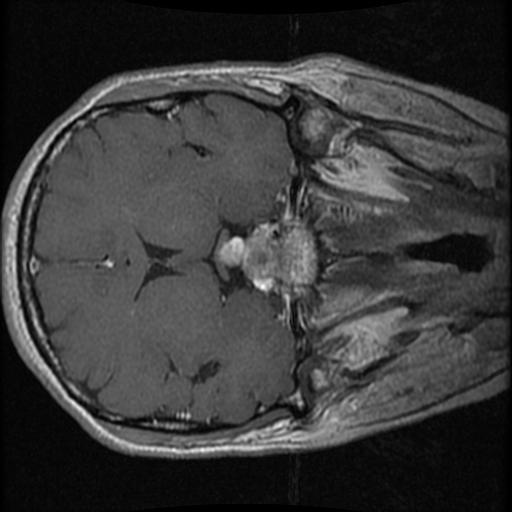pituitary tumour: (217, 226, 282, 291)
